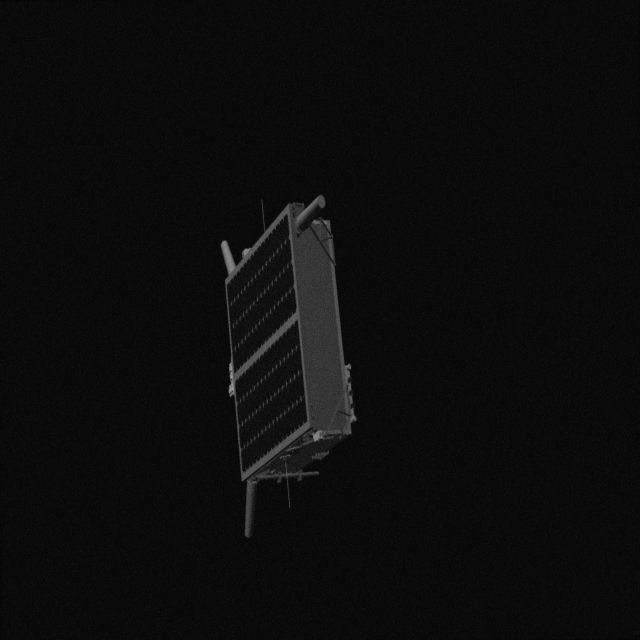medium_debris: (212, 182, 362, 544)
